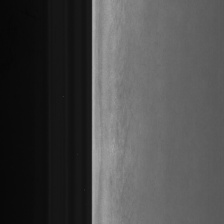silk_spot: (108, 58, 135, 180)
